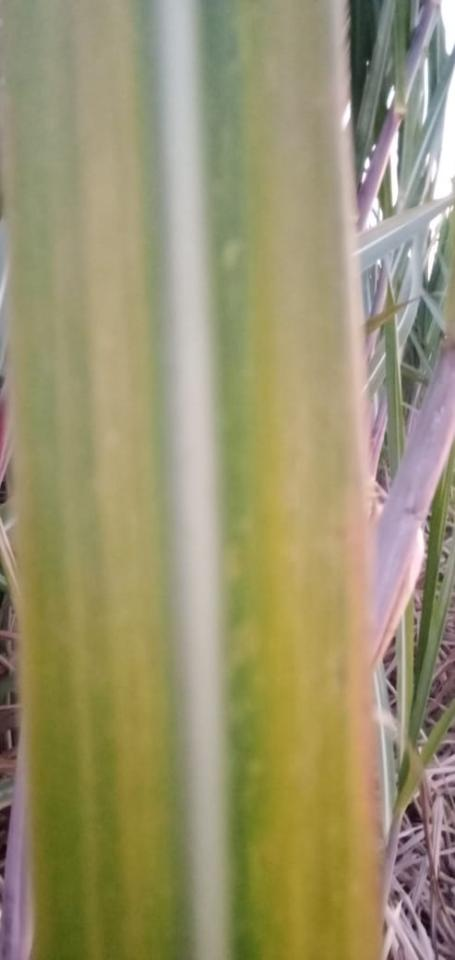Yellow: (347, 437, 383, 959)
